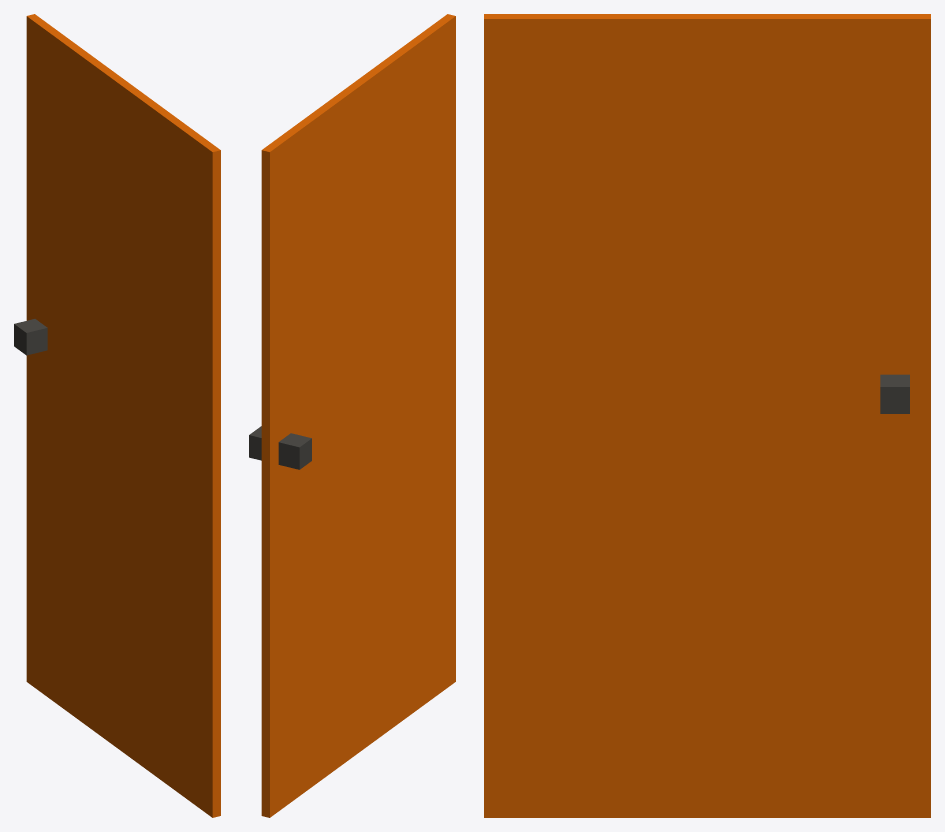
Rendered from Porta.fbx.
3 views of the same model, side by side, from view 1: azimuth 30°, elevation 25°; view 2: azimuth 150°, elevation 25°; view 3: azimuth 270°, elevation 25° (orthographic). The views are drawn at different scales.
Parts seen in each view (by area): view 1: Cube.001, Cube.002; view 2: Cube.001, Cube.002; view 3: Cube.001, Cube.002.
Part boxes in pixels (left/top/right/bottom): Cube.001: left=26, top=14, right=220, bottom=817; Cube.002: left=14, top=319, right=47, bottom=355; Cube.001: left=261, top=14, right=455, bottom=817; Cube.002: left=249, top=426, right=311, bottom=469; Cube.001: left=484, top=14, right=930, bottom=817; Cube.002: left=880, top=374, right=909, bottom=413.
Bounding box in the file's own units: 610 × 7681 × 3891.
